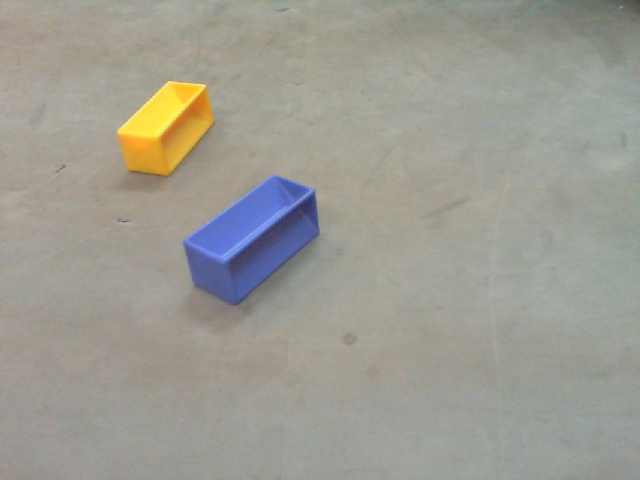BlueSample: (181, 172, 321, 307)
YellowSample: (114, 77, 214, 174)
